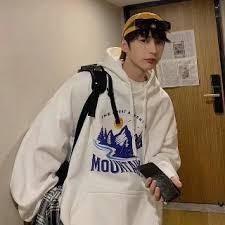sweater: (9, 58, 183, 225)
